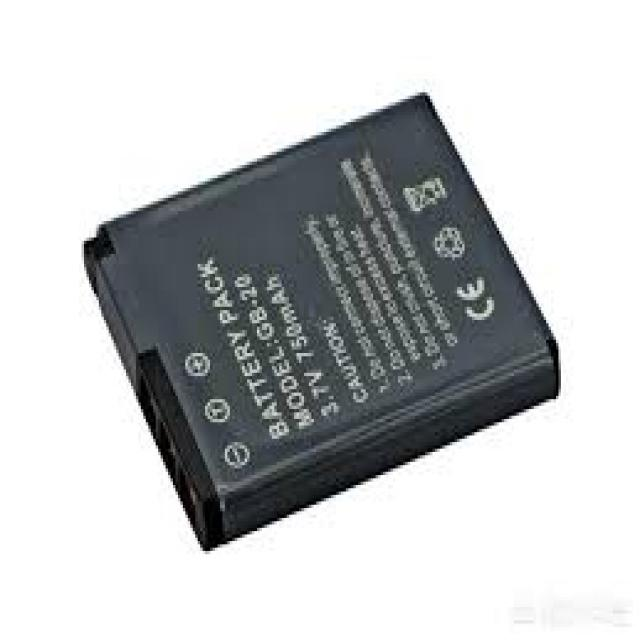non-organic waste: (84, 91, 563, 554)
